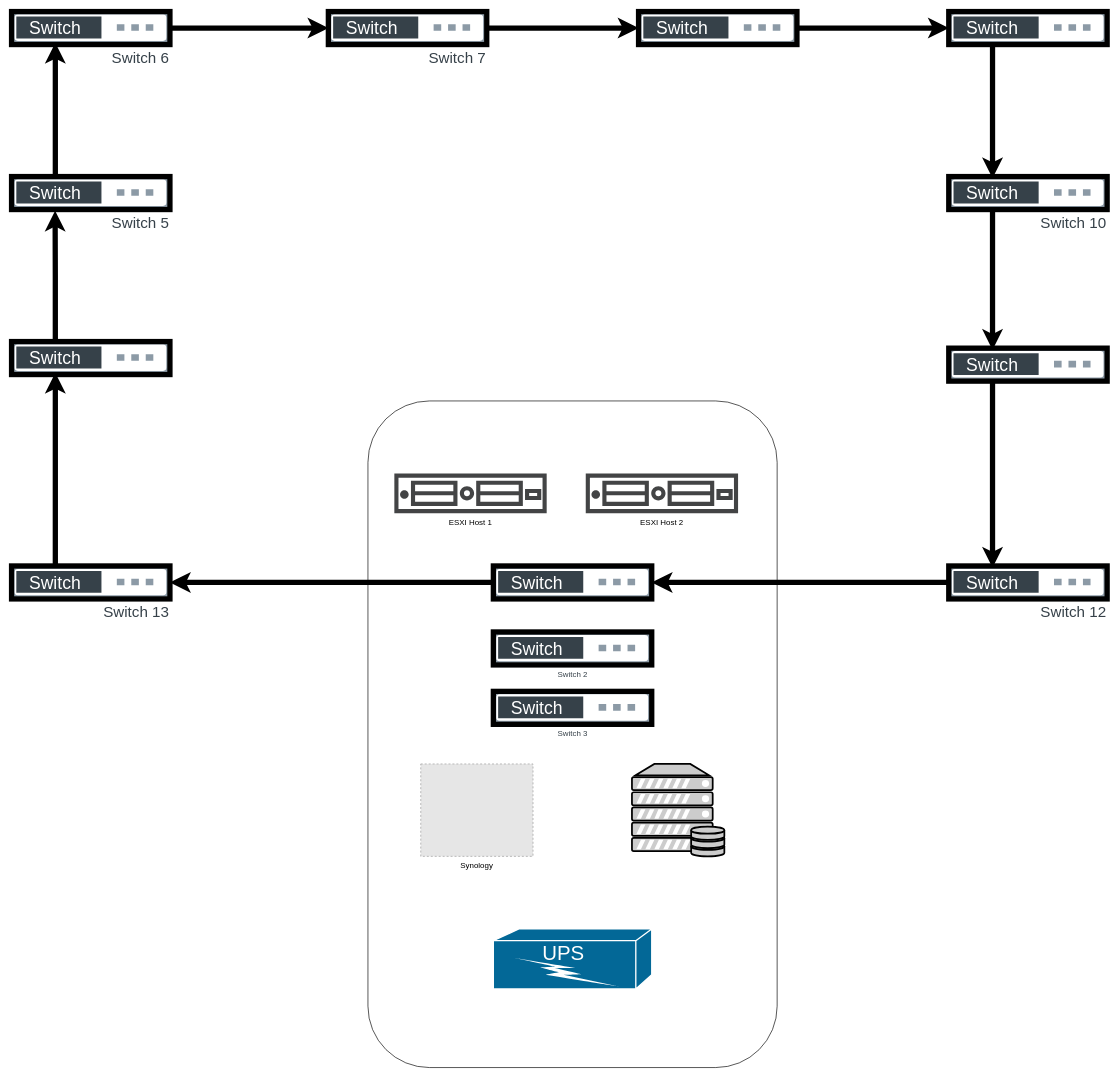
The diagram is 1118 pixels wide and 1079 high, and some of its shapes have lost their labels. Grey dashed boxes stand in for pictures. The box of each missing label's shape, as (x1, y1, x2, y2) in pixels:
NetApp: (631, 763, 725, 857)
Switch 1: (493, 566, 651, 599)
Switch 11: (948, 348, 1107, 381)
Switch 4: (11, 341, 170, 374)
Switch 8: (638, 11, 797, 44)
Switch 9: (948, 11, 1107, 44)
